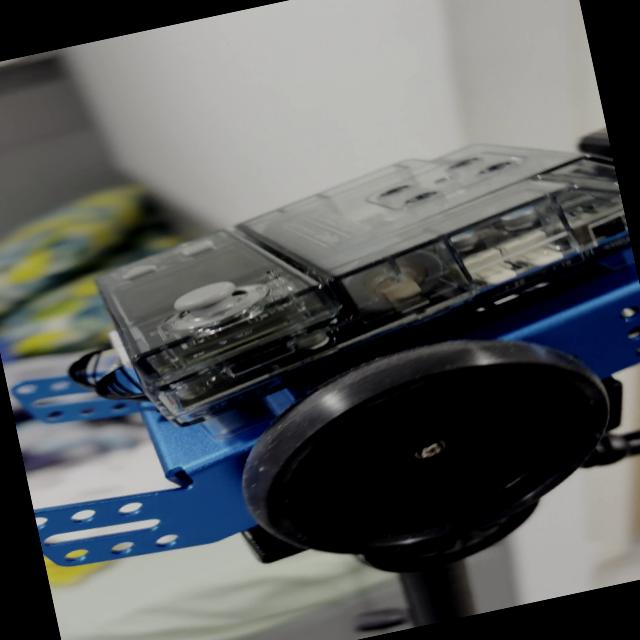mbot-detection: (0, 108, 640, 631)
